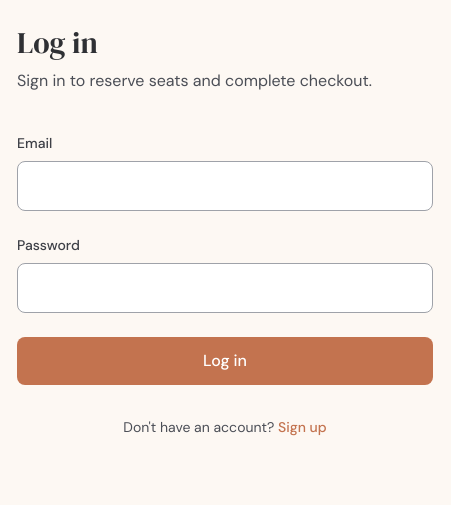
Test: LoginPage › shows generic error when login rejects with non-Error
The image size is (451, 505).
In the field labelled "Email": (225, 186) [17,161,433,211], type "a@b.com"
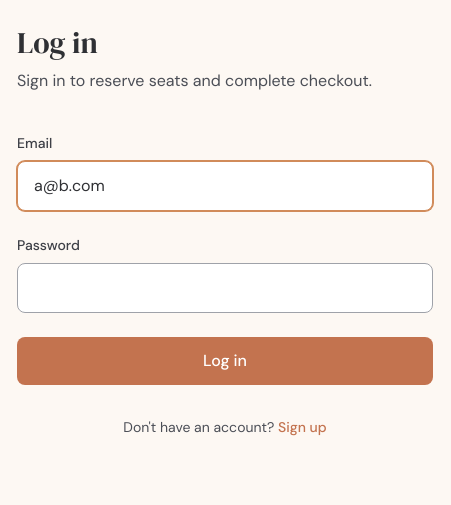
In the password field labelled "Password": (225, 288) [17,263,433,313], type "pass"
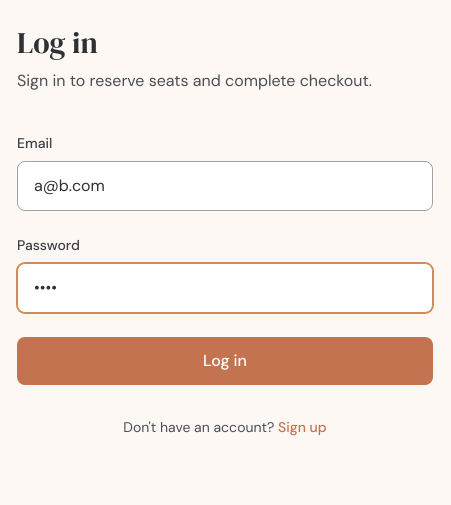
Click the button "Log in": click(225, 361) [17,337,433,385]
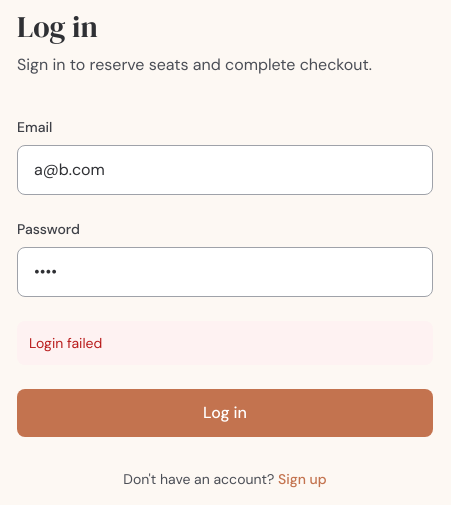
expect the text "Login failed" is shown: met, box [17,321,433,365]
